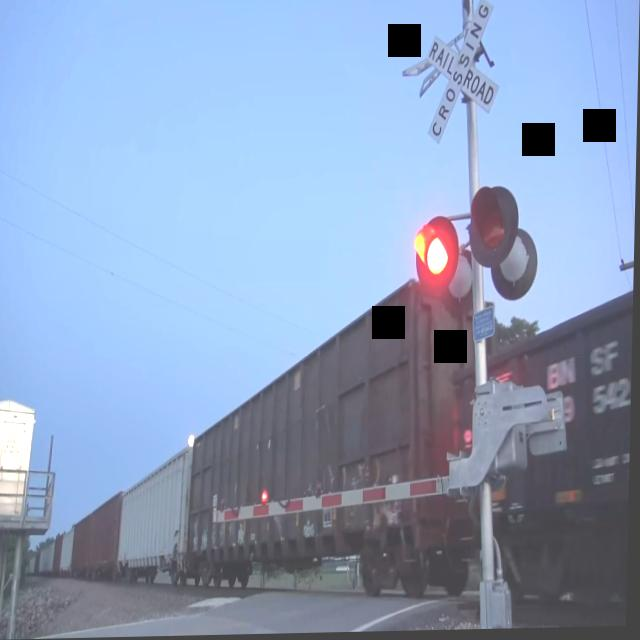gondola: (183, 268, 480, 607), (116, 433, 199, 598)
